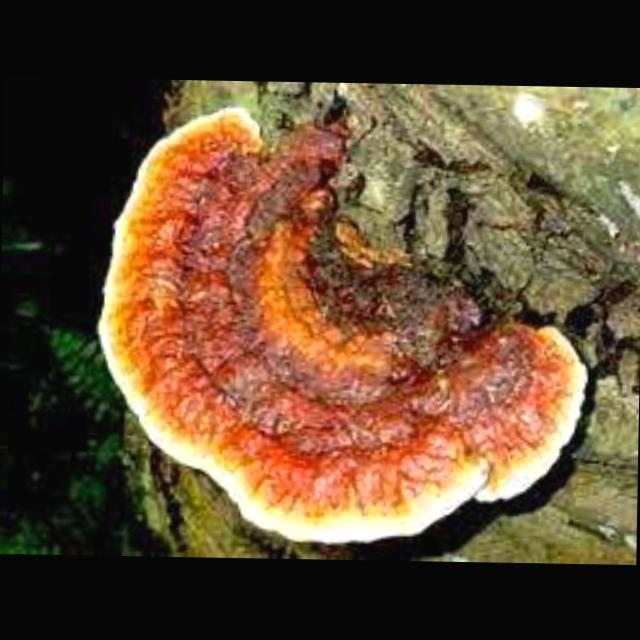ganoderma: (91, 102, 596, 551)
